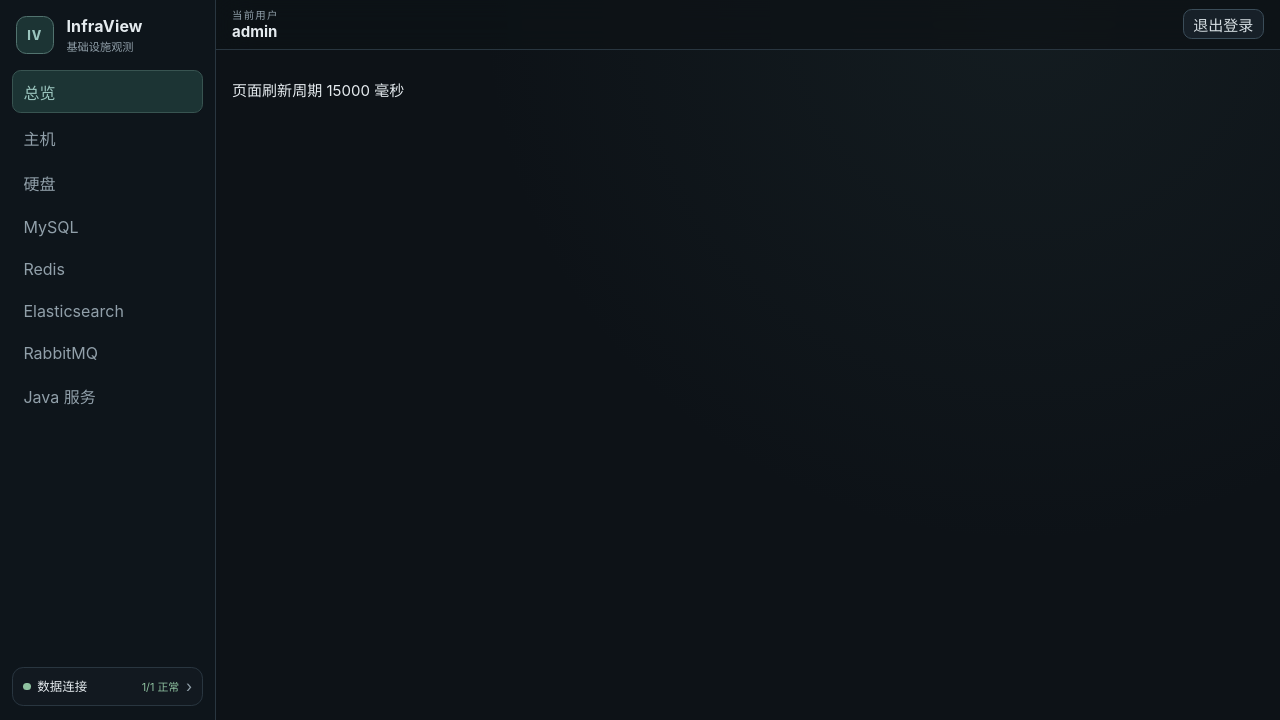
Test case: 健康连接默认显示紧凑汇总并可展开 Nightingale 详情
Expected: the text "1/1 正常" is shown, [142,678,179,694]
Click the text "数据连接": coordinates (62, 687) [37,679,87,694]
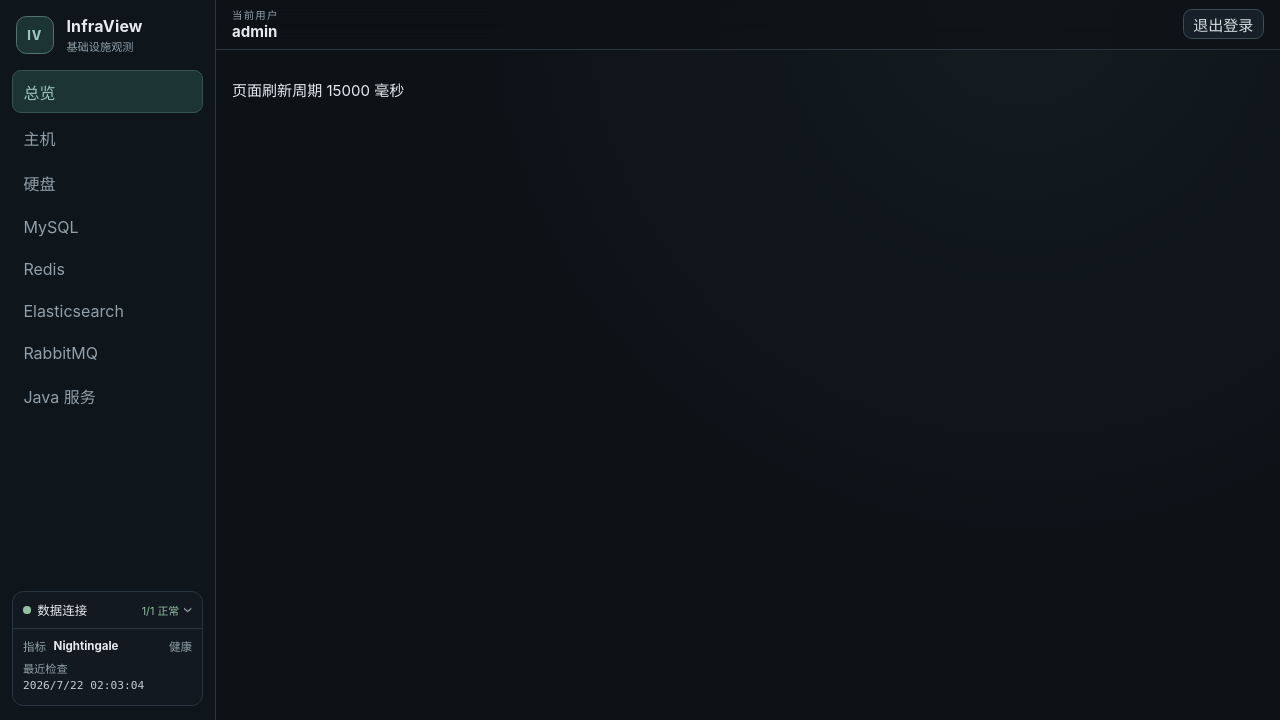
Expected: the text "指标" is shown, [23,638,46,654]
Expected: the text "Nightingale" is shown, [54,639,118,653]
Expected: the text "健康" is shown, [169,638,192,654]
